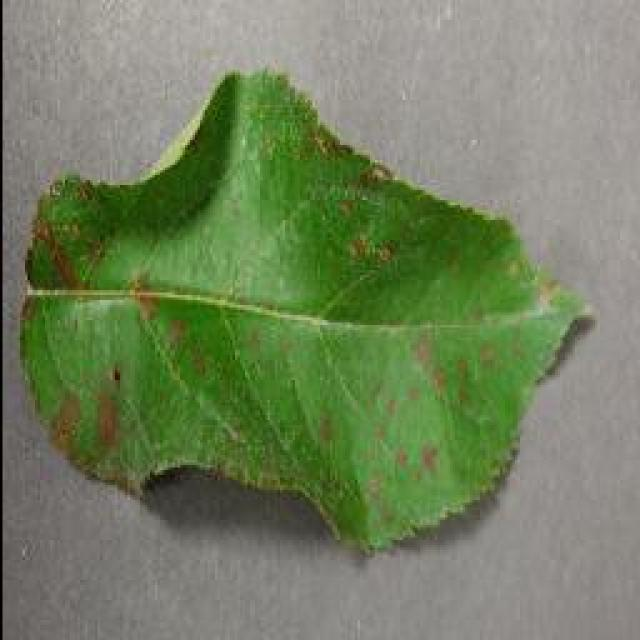apple cedar apple rust: (17, 65, 595, 557)
